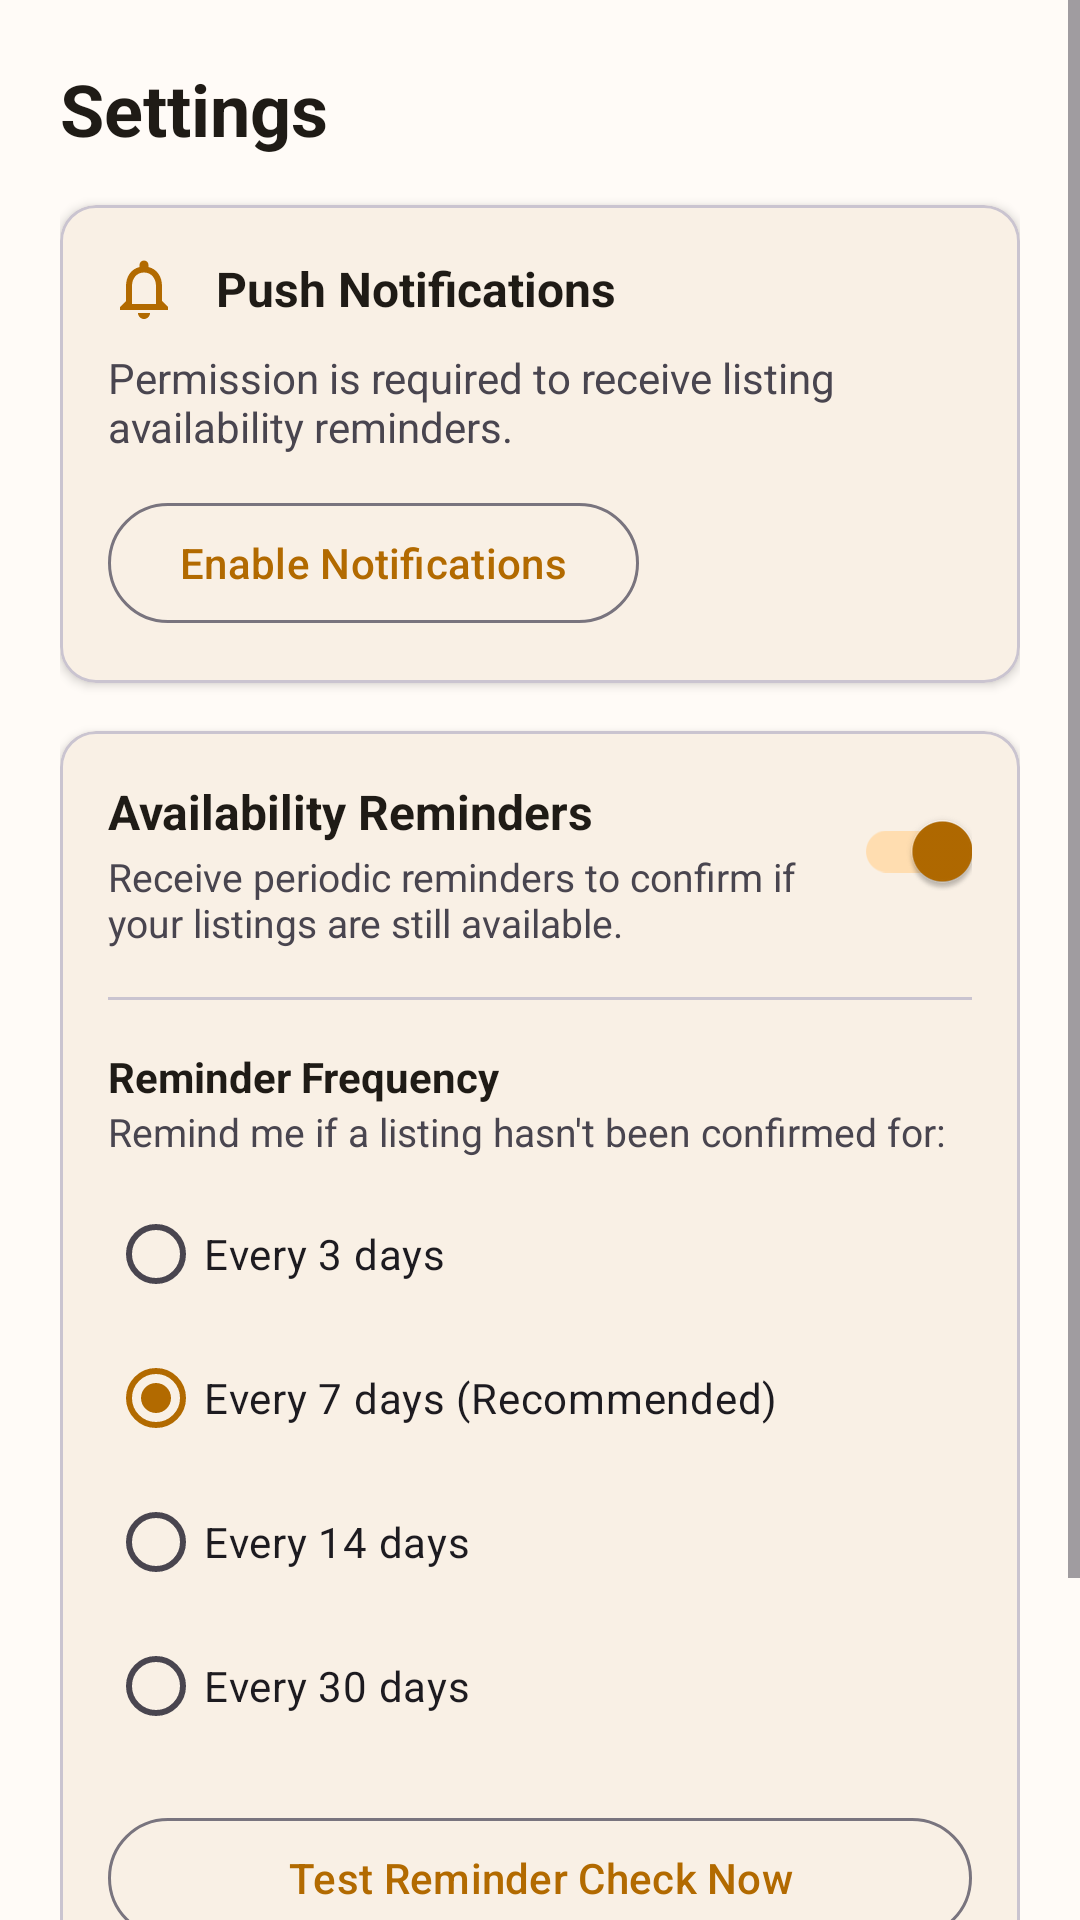

Named icons in this screenshot (1080 × 1920) and their centers, [x,y]:
Notification Icon: [144,289]
